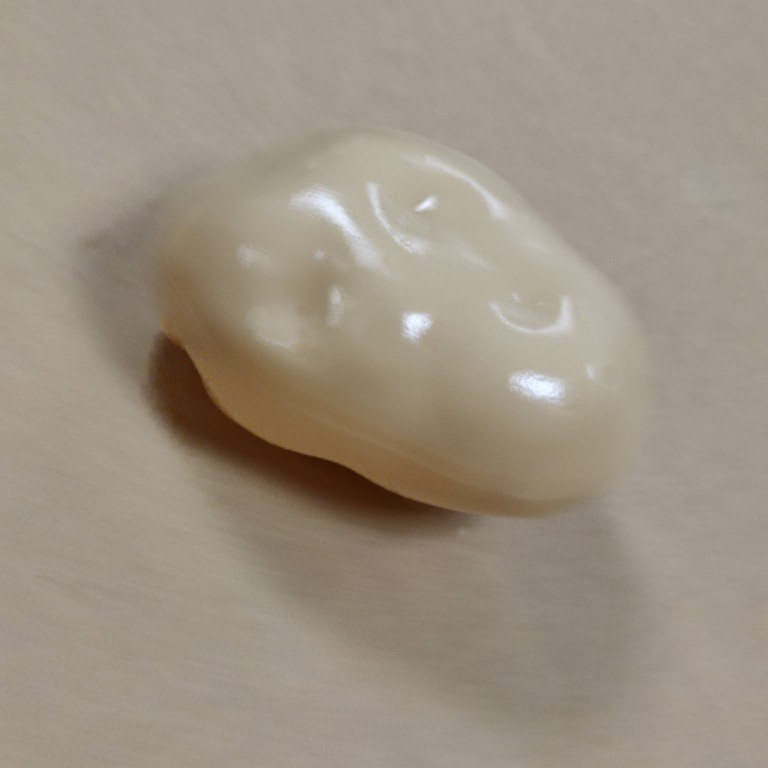fruit_potato: (151, 118, 658, 525)
